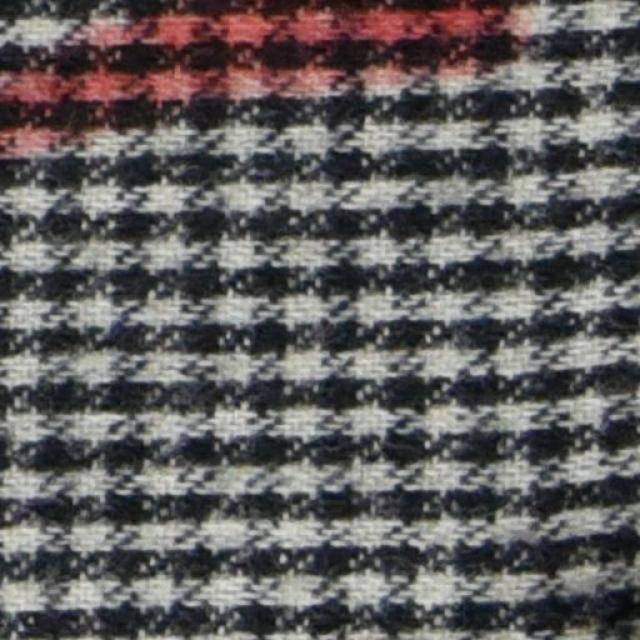Stain: (0, 1, 552, 169)
